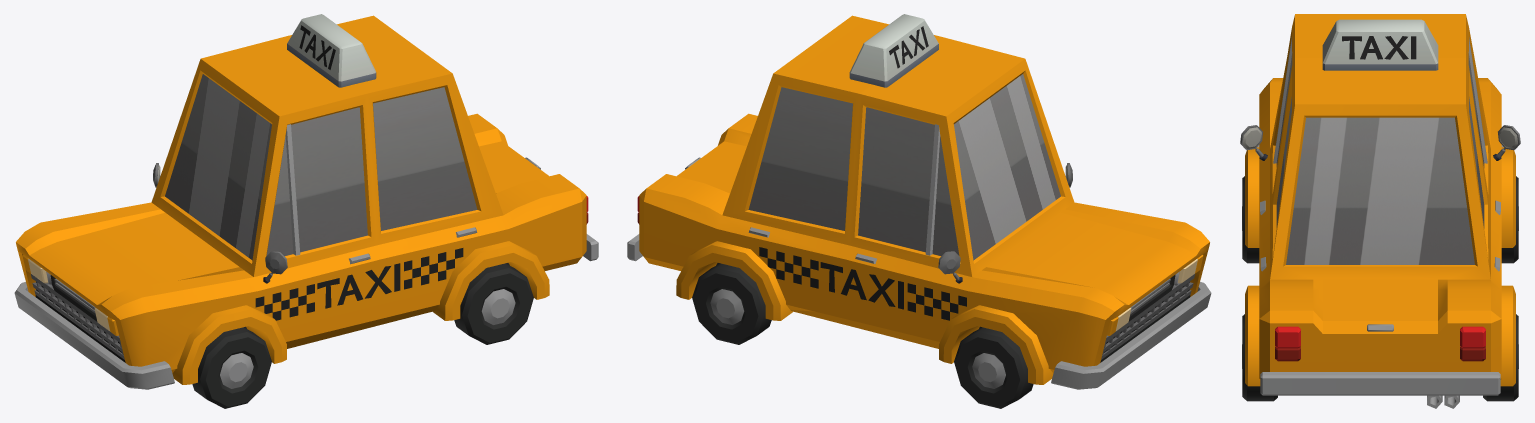
The model's file is Taxi_4.gltf.
3 renders of one model, left to right at view 1: azimuth 30°, elevation 25°; view 2: azimuth 150°, elevation 25°; view 3: azimuth 270°, elevation 25°, orthographic. The views are drawn at different scales.
Visible parts, largest first — view 1: Taxi_4, FL, RL; view 2: Taxi_4, FR, RR; view 3: Taxi_4, RL, RR, FL, FR.
Boxes of the visible parts, left/top/right/bottom form: Taxi_4: left=14, top=14, right=598, bottom=389; FL: left=192, top=327, right=271, bottom=408; RL: left=454, top=263, right=533, bottom=344; Taxi_4: left=627, top=14, right=1211, bottom=389; FR: left=954, top=327, right=1033, bottom=408; RR: left=692, top=263, right=771, bottom=344; Taxi_4: left=1240, top=14, right=1520, bottom=408; RL: left=1242, top=314, right=1277, bottom=401; RR: left=1483, top=314, right=1518, bottom=401; FL: left=1242, top=176, right=1259, bottom=263; FR: left=1501, top=176, right=1518, bottom=263.
Bounding box in the file's own units: 3.53 × 2.05 × 1.65.
Materials: 4 (4 with a texture image).
